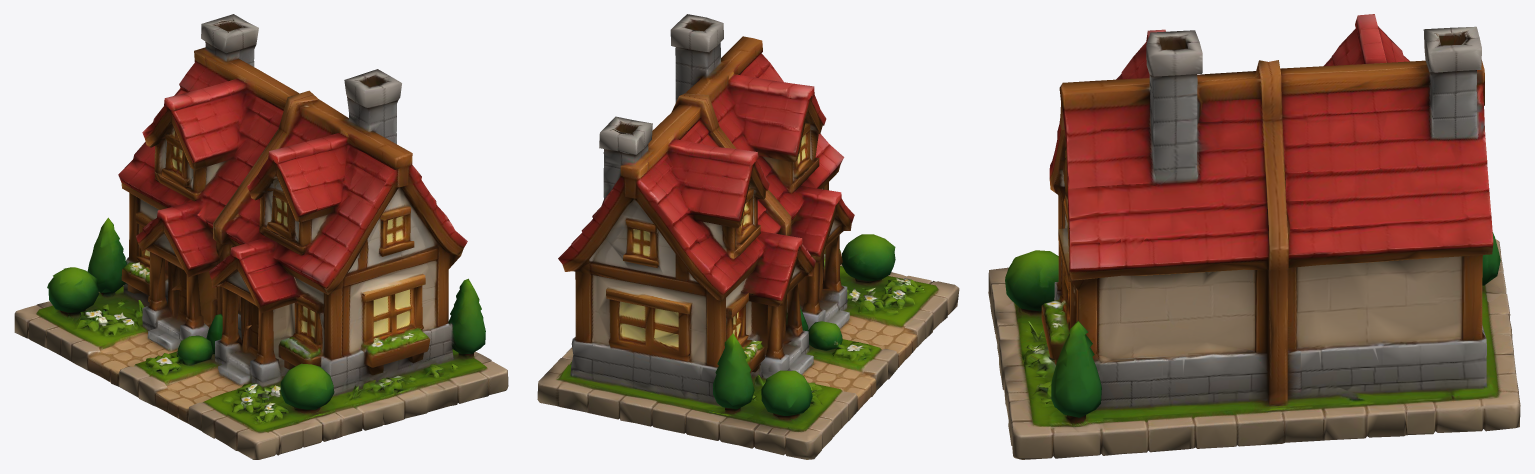
File: house_small_stage3.glb
3 views of the same model, side by side, from view 1: azimuth 30°, elevation 25°; view 2: azimuth 150°, elevation 25°; view 3: azimuth 270°, elevation 25° (orthographic). The views are drawn at different scales.
Parts seen in each view (by area): view 1: tripo_node_1b5d9077-07df-4172-b834-18968384afc3; view 2: tripo_node_1b5d9077-07df-4172-b834-18968384afc3; view 3: tripo_node_1b5d9077-07df-4172-b834-18968384afc3.
Boxes of the visible parts, x1,y1,x2,y2 form: tripo_node_1b5d9077-07df-4172-b834-18968384afc3: (14,14,508,459); tripo_node_1b5d9077-07df-4172-b834-18968384afc3: (537,14,959,459); tripo_node_1b5d9077-07df-4172-b834-18968384afc3: (988,14,1520,459).
Bounding box in the file's own units: 0.8875 × 0.7664 × 1.
Materials: 1 (1 with a texture image).
